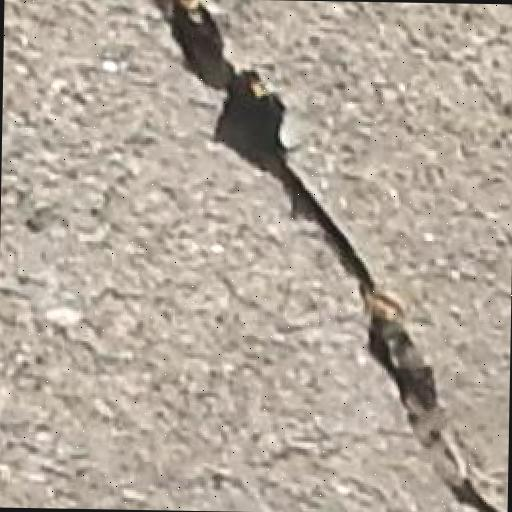spalling: (127, 2, 508, 507)
